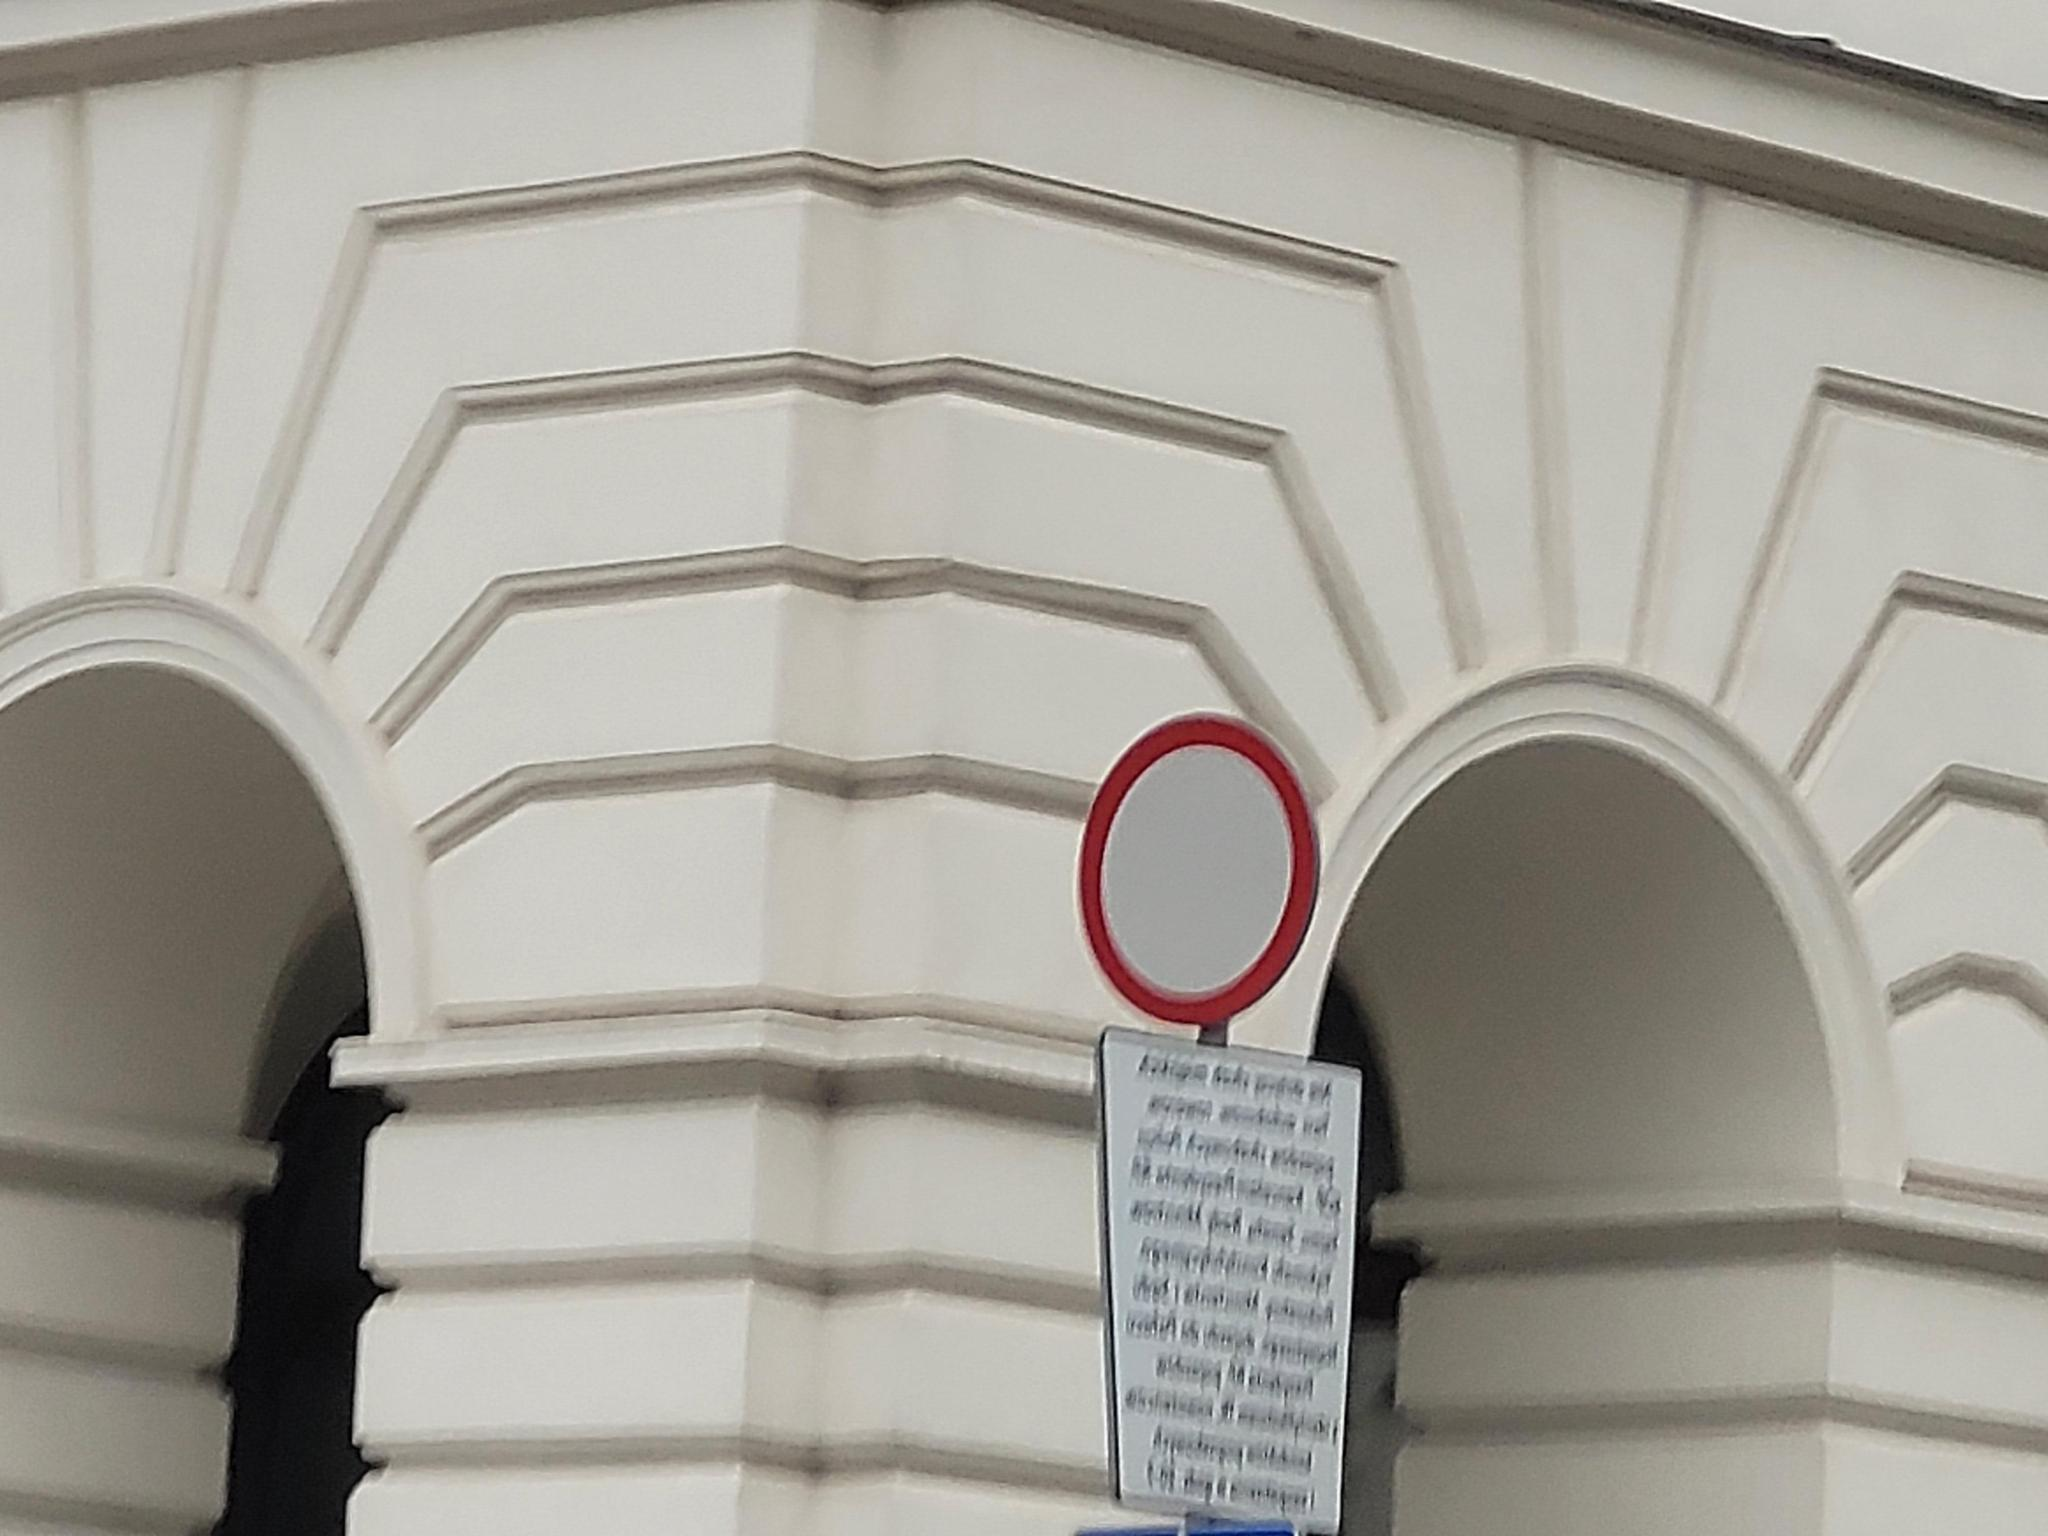prohibitory: (1076, 712, 1321, 1025)
warning: (1106, 1036, 1371, 1531)
